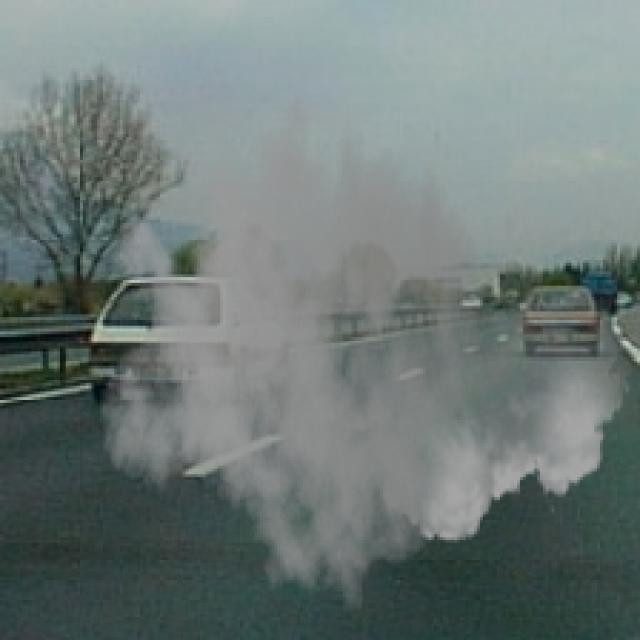smoke: (97, 66, 632, 611)
